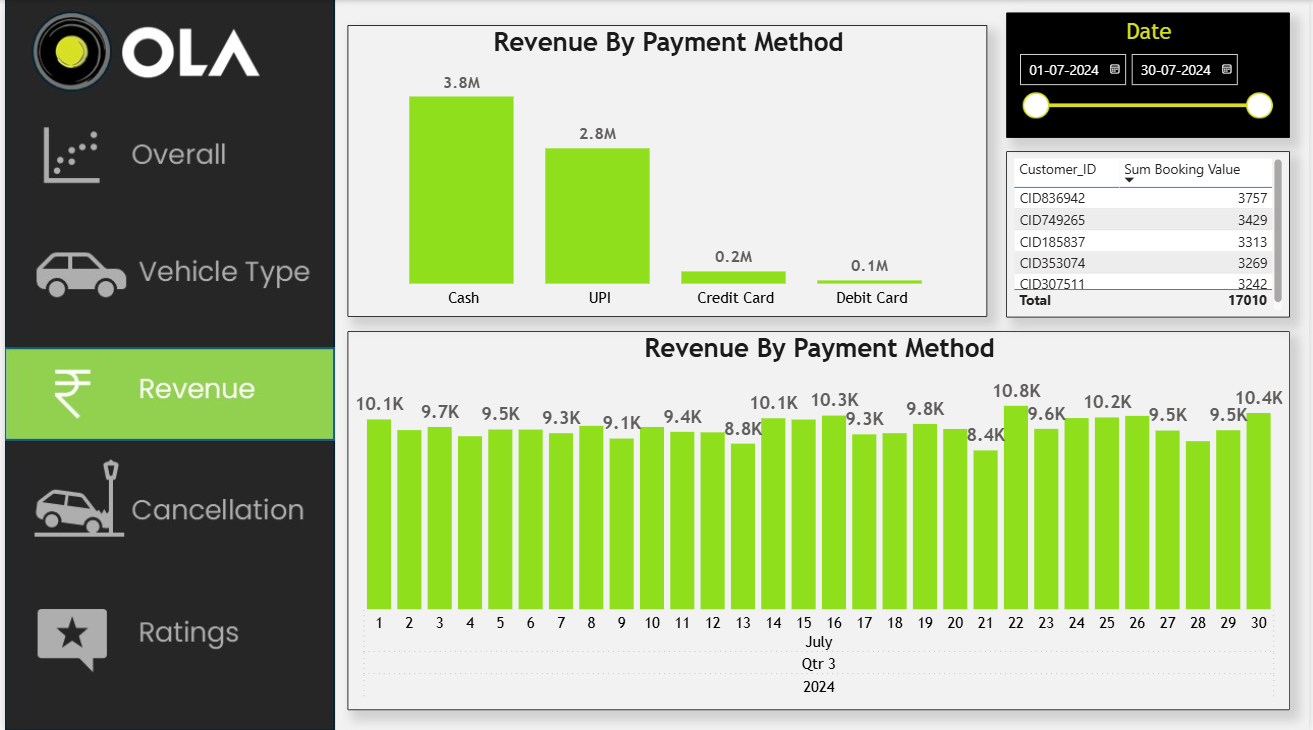

This screenshot's page, from the dashboard's own definition file:
{"tool":"powerbi","page":{"name":"Revenue","canvas":[1280,720],"ordinal":2},"visuals":[{"type":"actionButton","box":[0,218,324,94],"z":0},{"type":"actionButton","box":[0,100,324,94],"z":1000},{"type":"actionButton","box":[0,446,324,94],"z":2000},{"type":"actionButton","box":[0,574,324,94],"z":3000},{"type":"columnChart","title":"Revenue By Payment Method","fields":{"Y":["Sum(July.Booking_Value)"],"Category":["July.Payment_Method"]},"box":[336.7,25,628.3,286.7],"z":3001},{"type":"columnChart","title":"Revenue By Payment Method","fields":{"Y":["Sum(July.Ride_Distance)"],"Category":["July.Date.Variation.Date Hierarchy.Year","July.Date.Variation.Date Hierarchy.Quarter","July.Date.Variation.Date Hierarchy.Month","July.Date.Variation.Date Hierarchy.Day"]},"box":[336.7,325,925,371.7],"z":3002},{"type":"slicer","title":"Date","fields":{"Values":["July.Date"]},"box":[983.3,11.7,278.3,123.3],"z":3003},{"type":"tableEx","fields":{"Values":["July.Customer_ID","Sum(July.Booking_Value)"]},"box":[983.3,148.3,278.3,163.3],"z":3004}]}

Visuals, with their boxes in screenshot pixels (x1, y1, x2, y2), scaled from the page's 1280x720 canvas onto the 1313x730 screenshot:
actionButton: box(0, 221, 332, 316)
actionButton: box(0, 101, 332, 197)
actionButton: box(0, 452, 332, 548)
actionButton: box(0, 582, 332, 677)
"Revenue By Payment Method" columnChart: box(345, 25, 990, 316)
"Revenue By Payment Method" columnChart: box(345, 330, 1294, 706)
"Date" slicer: box(1009, 12, 1294, 137)
tableEx - July.Customer_ID x Sum(July.Booking_Value): box(1009, 150, 1294, 316)
